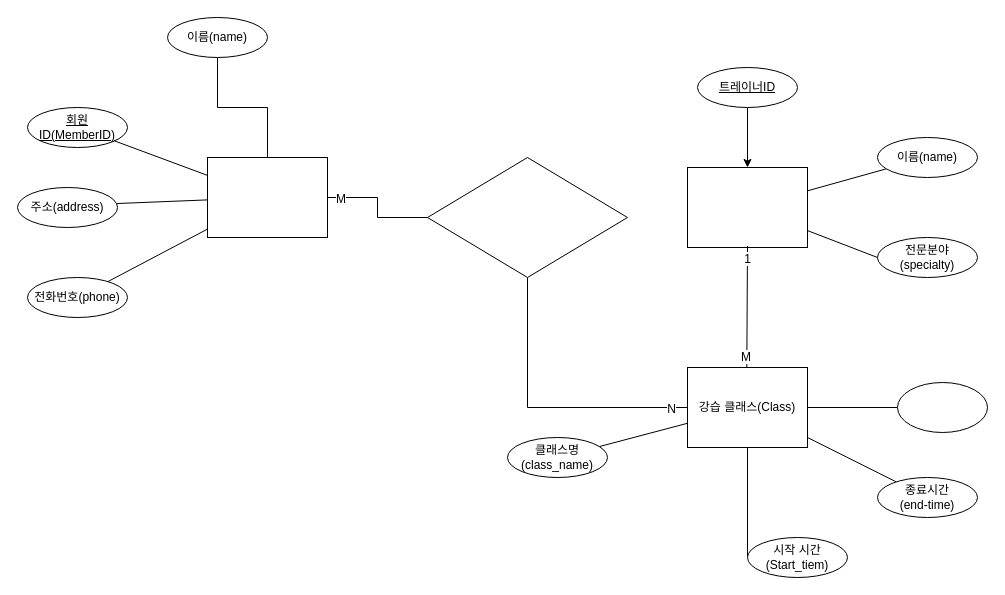
Some shapes in this 1005 by 595 pixel diagram are drawn without their labels. Here are the shapes that lost their labels. From the top down, the box of each, then its label:
(206, 156, 328, 238): 회원(Member)
(426, 156, 628, 278): 클래스 등록(Enrollment)
(686, 166, 808, 248): 트레이너(Trainer)
(896, 382, 988, 432): 클래스ID (ClassID)
